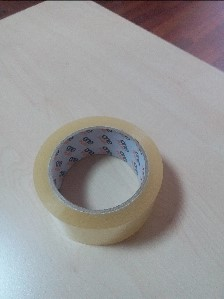band: (29, 112, 179, 251)
